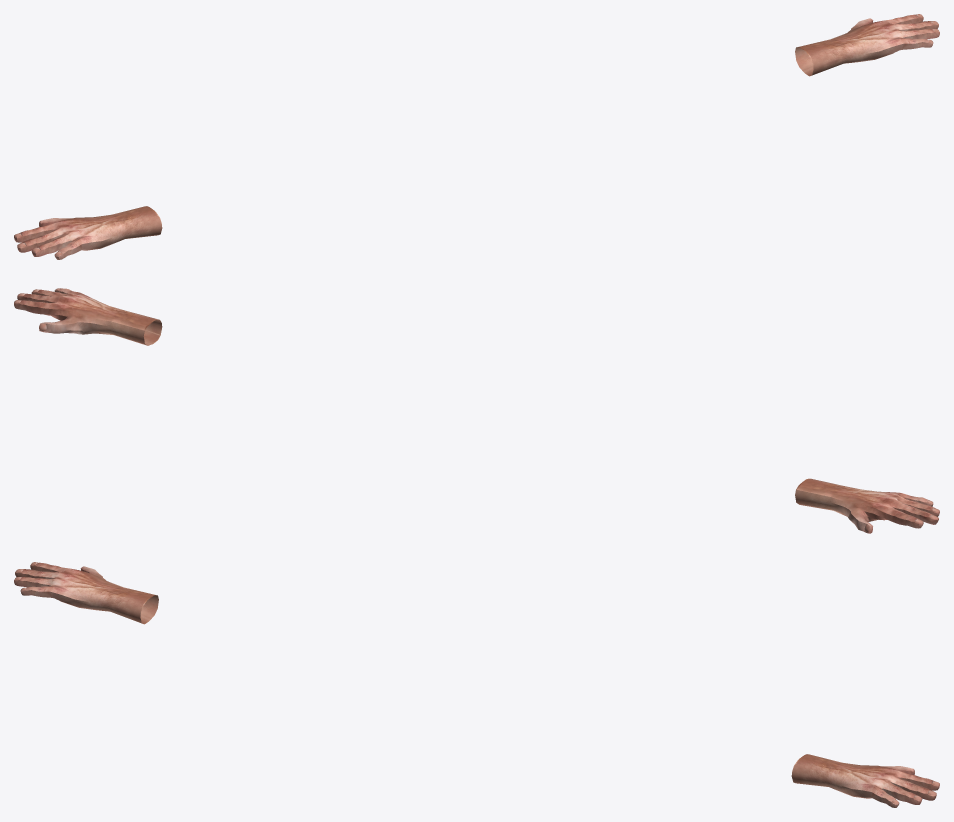
File: Hands.fbx
3 renders of one model, top to bottom at view 1: azimuth 30°, elevation 25°; view 2: azimuth 150°, elevation 25°; view 3: azimuth 330°, elevation 25°, orthographic.
Visible parts, largest first — view 1: Cube_005, Cube; view 2: Cube_005, Cube; view 3: Cube, Cube_005.
Boxes of the visible parts, x1,y1,x2,y2 form: Cube_005: [795, 14, 939, 76]; Cube: [14, 206, 162, 259]; Cube_005: [14, 288, 162, 345]; Cube: [795, 478, 939, 533]; Cube: [14, 562, 158, 624]; Cube_005: [791, 754, 939, 807].
Size of the model in its own units: 1.76 by 0.0477 by 0.1388.
2 materials, 2 textured.
